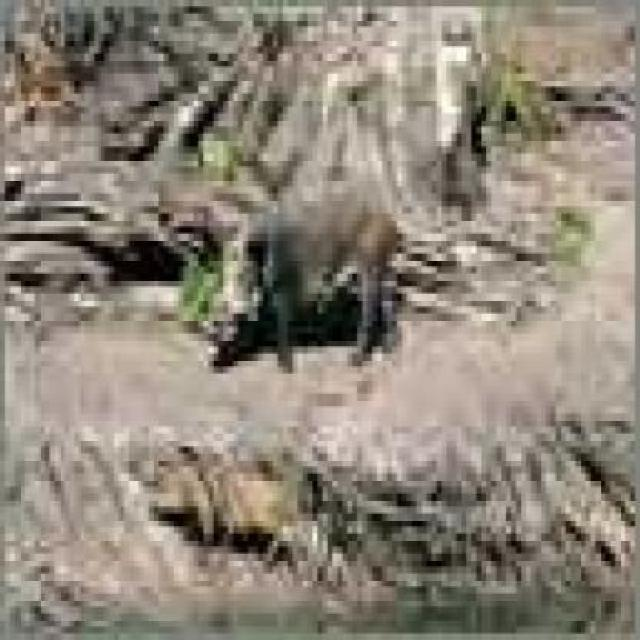Boar: (217, 182, 428, 369)
